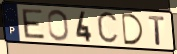4: (75, 10, 93, 43)
C: (95, 10, 120, 47)
D: (120, 12, 146, 46)
E: (20, 8, 47, 40)
O: (46, 8, 70, 42)
T: (147, 15, 167, 47)
